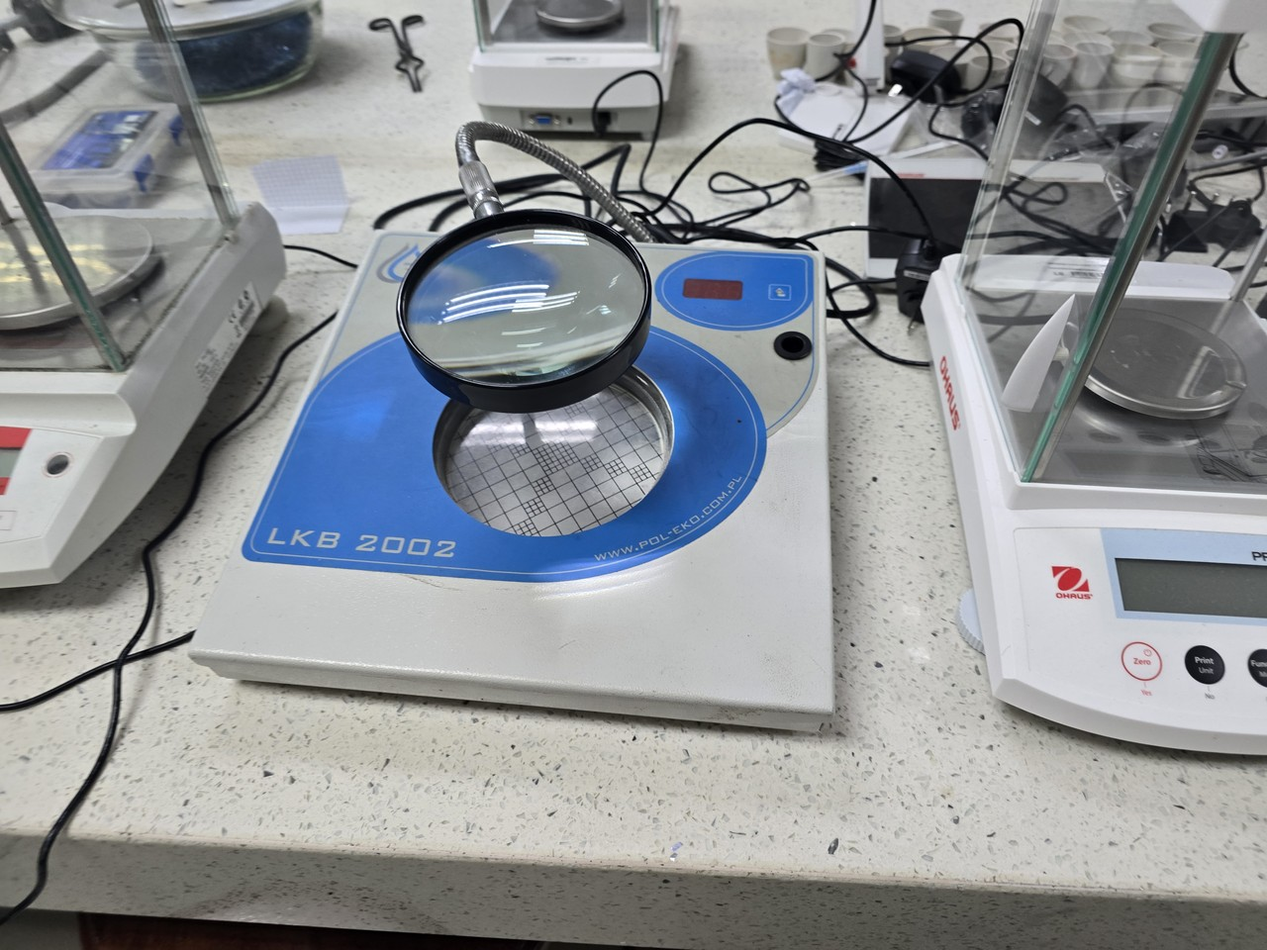contador_de_colonias: (92, 107, 870, 729)
